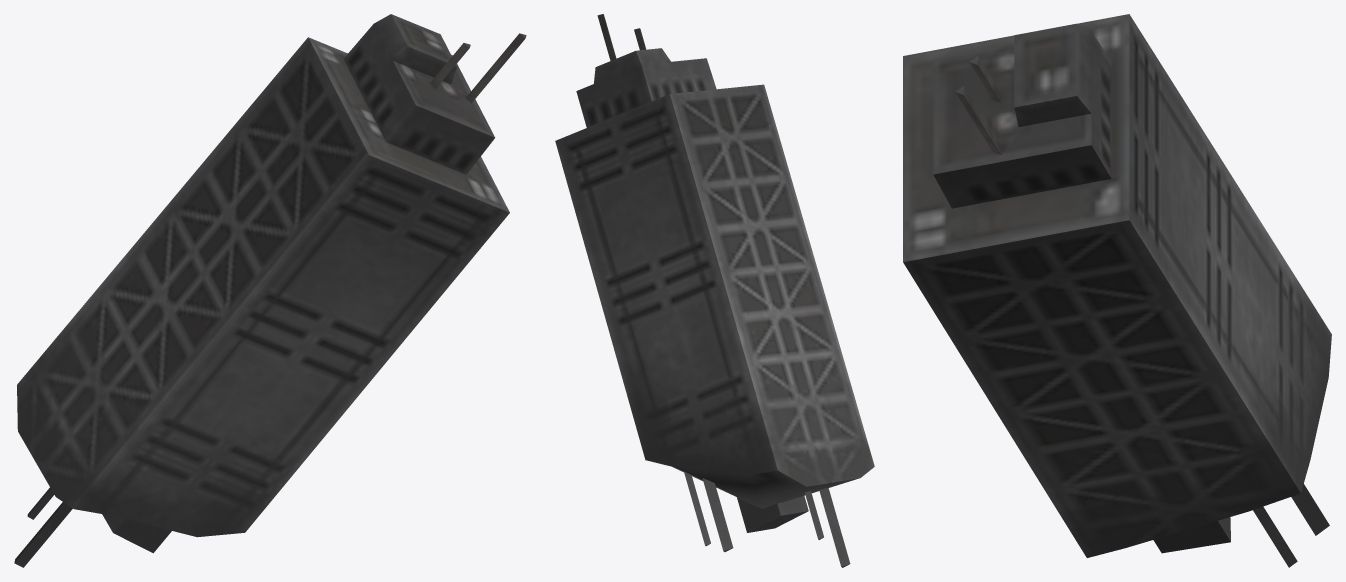
The model's file is skyBuildingAAA_pos_grp (16).fbx.
3 views of the same model, side by side, from view 1: azimuth 30°, elevation 25°; view 2: azimuth 150°, elevation 25°; view 3: azimuth 270°, elevation 25° (orthographic). The views are drawn at different scales.
Parts seen in each view (by area): view 1: skyBuildingAAA_geo; view 2: skyBuildingAAA_geo; view 3: skyBuildingAAA_geo.
Boxes of the visible parts, <box> form: skyBuildingAAA_geo: <box>14,14,526,567</box>; skyBuildingAAA_geo: <box>555,14,874,567</box>; skyBuildingAAA_geo: <box>903,14,1331,567</box>.
Size of the model in its own units: 6.11 by 7.37 by 4.31.
